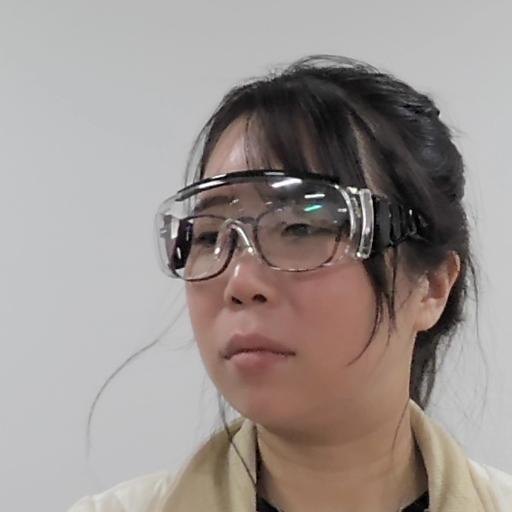glasses: (150, 52, 484, 435)
